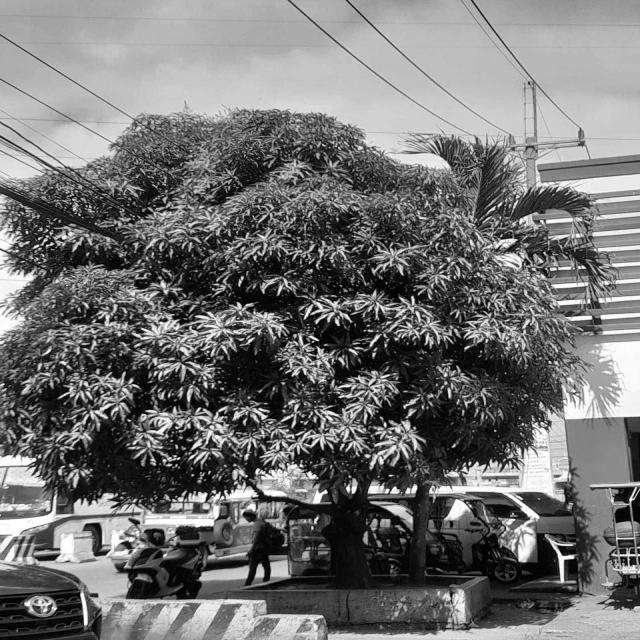Mango-Tree: (23, 122, 445, 507)
